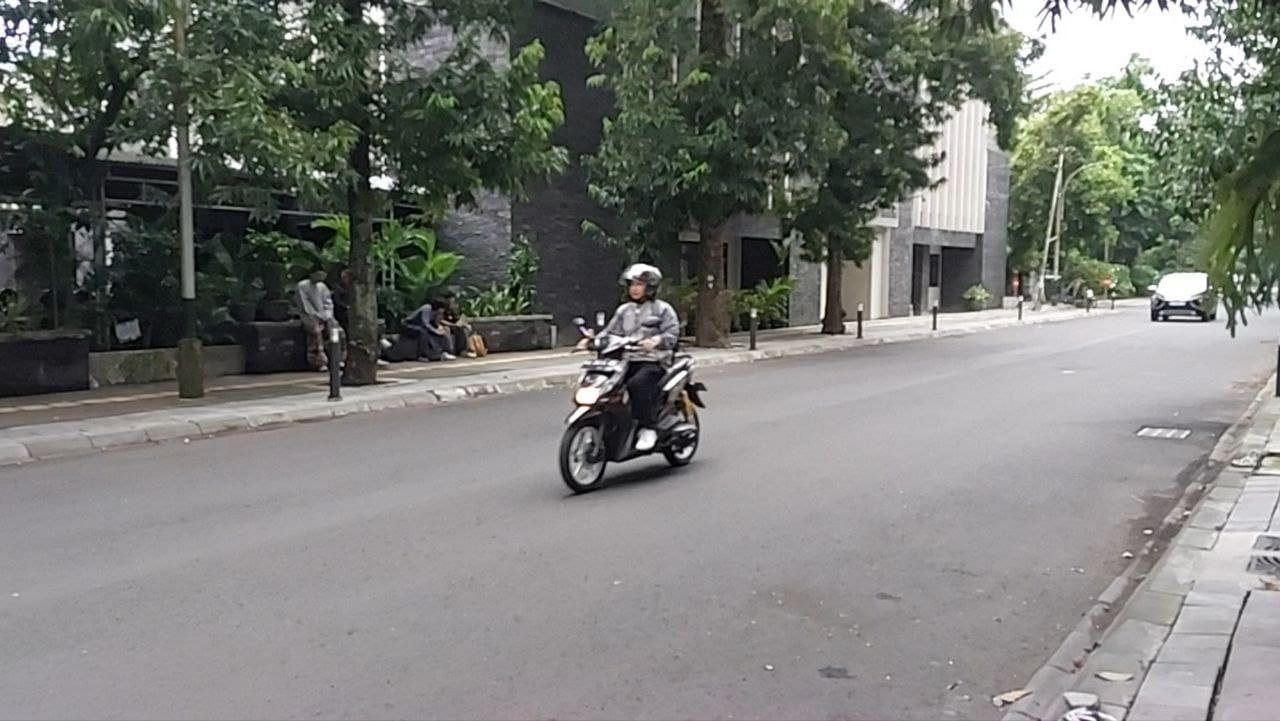helm: (617, 262, 663, 304)
riding: (558, 261, 709, 494)
